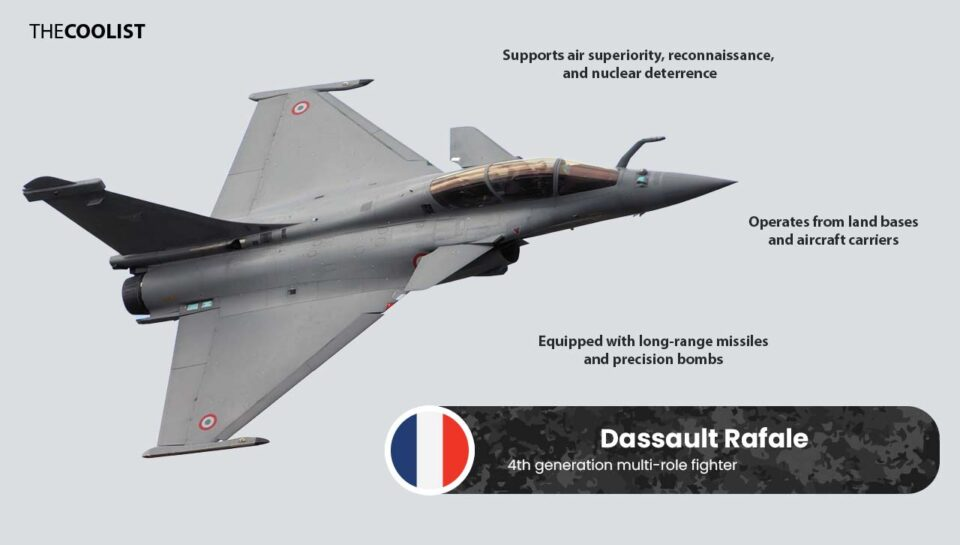Rafale: (11, 74, 746, 463)
